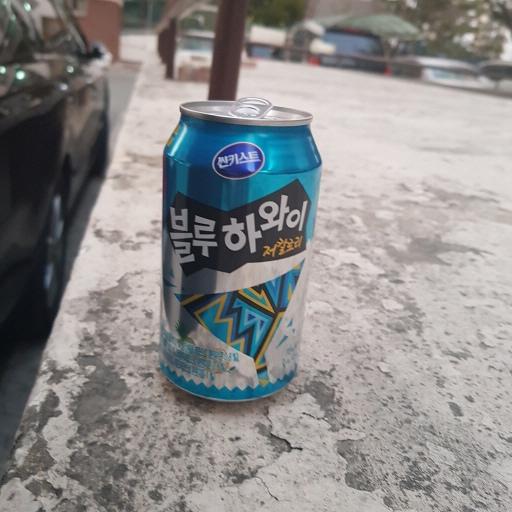Metal_0: (157, 97, 323, 404)
